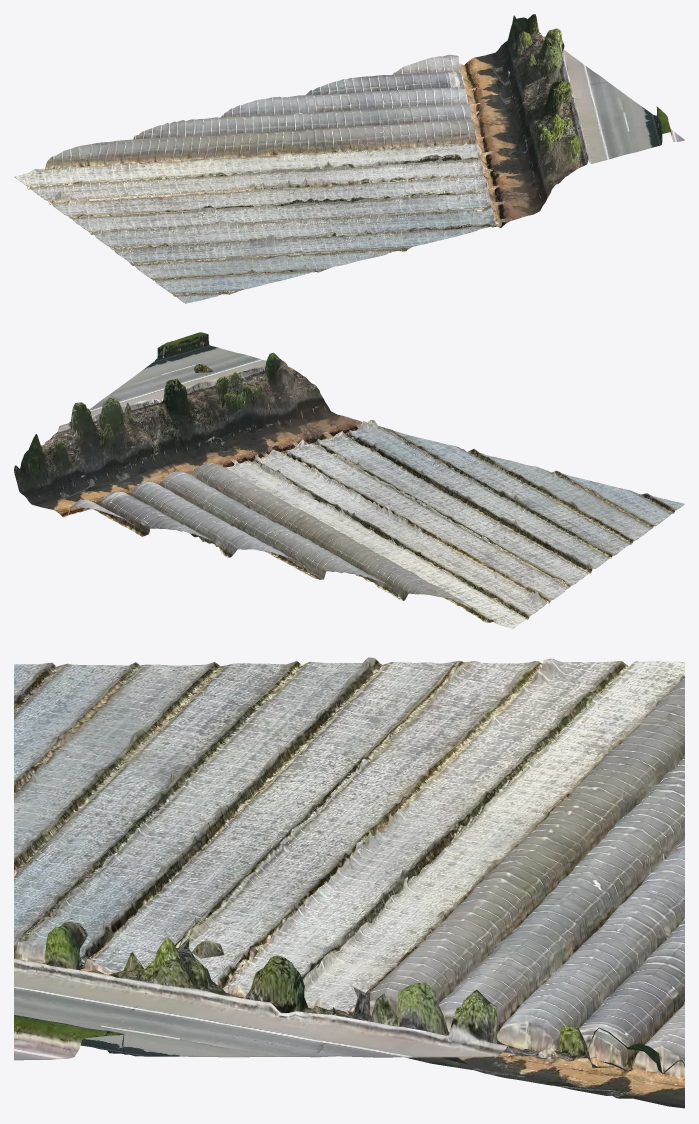
The model's file is BlockBY_L19_187.glb.
The picture shows the model from 3 angles, top to bottom: view 1: azimuth 30°, elevation 25°; view 2: azimuth 150°, elevation 25°; view 3: azimuth 270°, elevation 25°; orthographic projection. The views are drawn at different scales.
Visible parts, largest first — view 1: rtc; view 2: rtc; view 3: rtc.
Part boxes in pixels (bbox=[...]): rtc: bbox=[14, 14, 684, 303]; rtc: bbox=[14, 332, 684, 628]; rtc: bbox=[14, 657, 684, 1108].
Bounding box in the file's own units: 81.1 × 11.37 × 48.25.
Materials: 2 (2 with a texture image).
